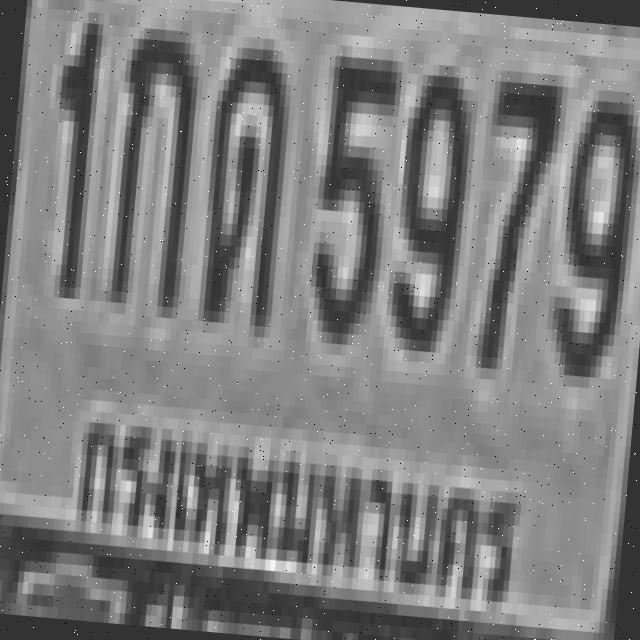1: (38, 9, 98, 288)
10GorGai: (105, 15, 197, 307)
29DorDek: (193, 34, 290, 315)
5: (306, 44, 398, 336)
7: (466, 58, 559, 361)
9: (543, 76, 640, 368), (384, 51, 471, 342)
Bangkok: (56, 382, 535, 632)
